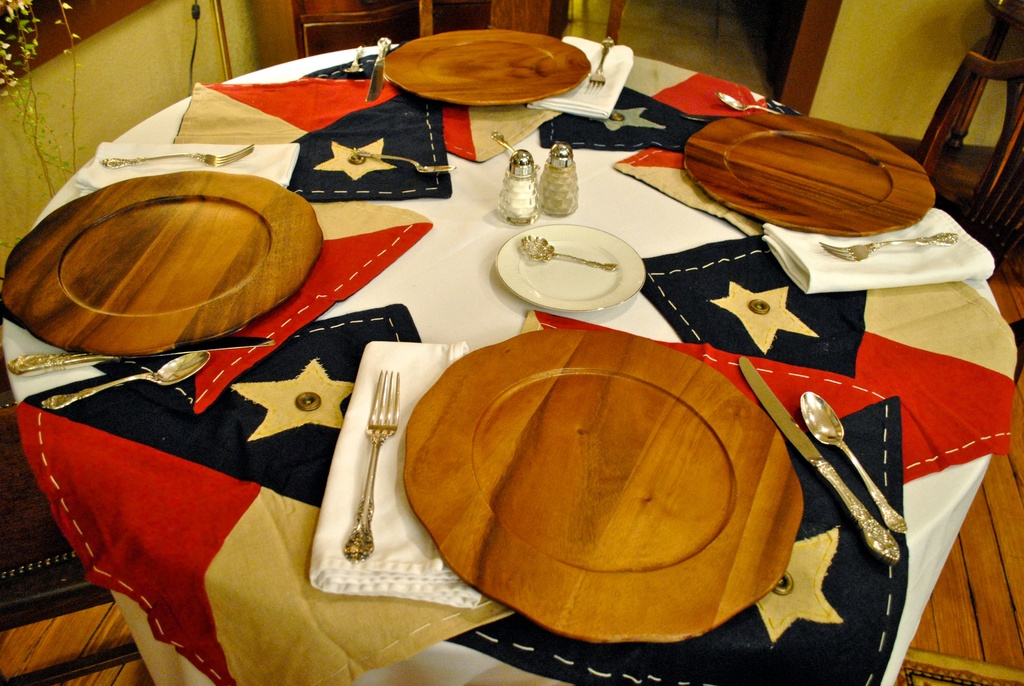plate: (404, 327, 804, 648), (686, 113, 934, 240), (376, 29, 593, 109)
